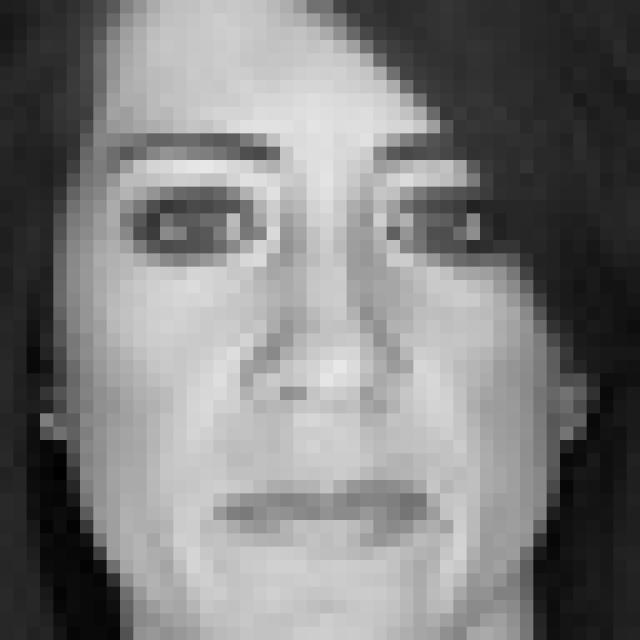neutral: (106, 121, 514, 564)
